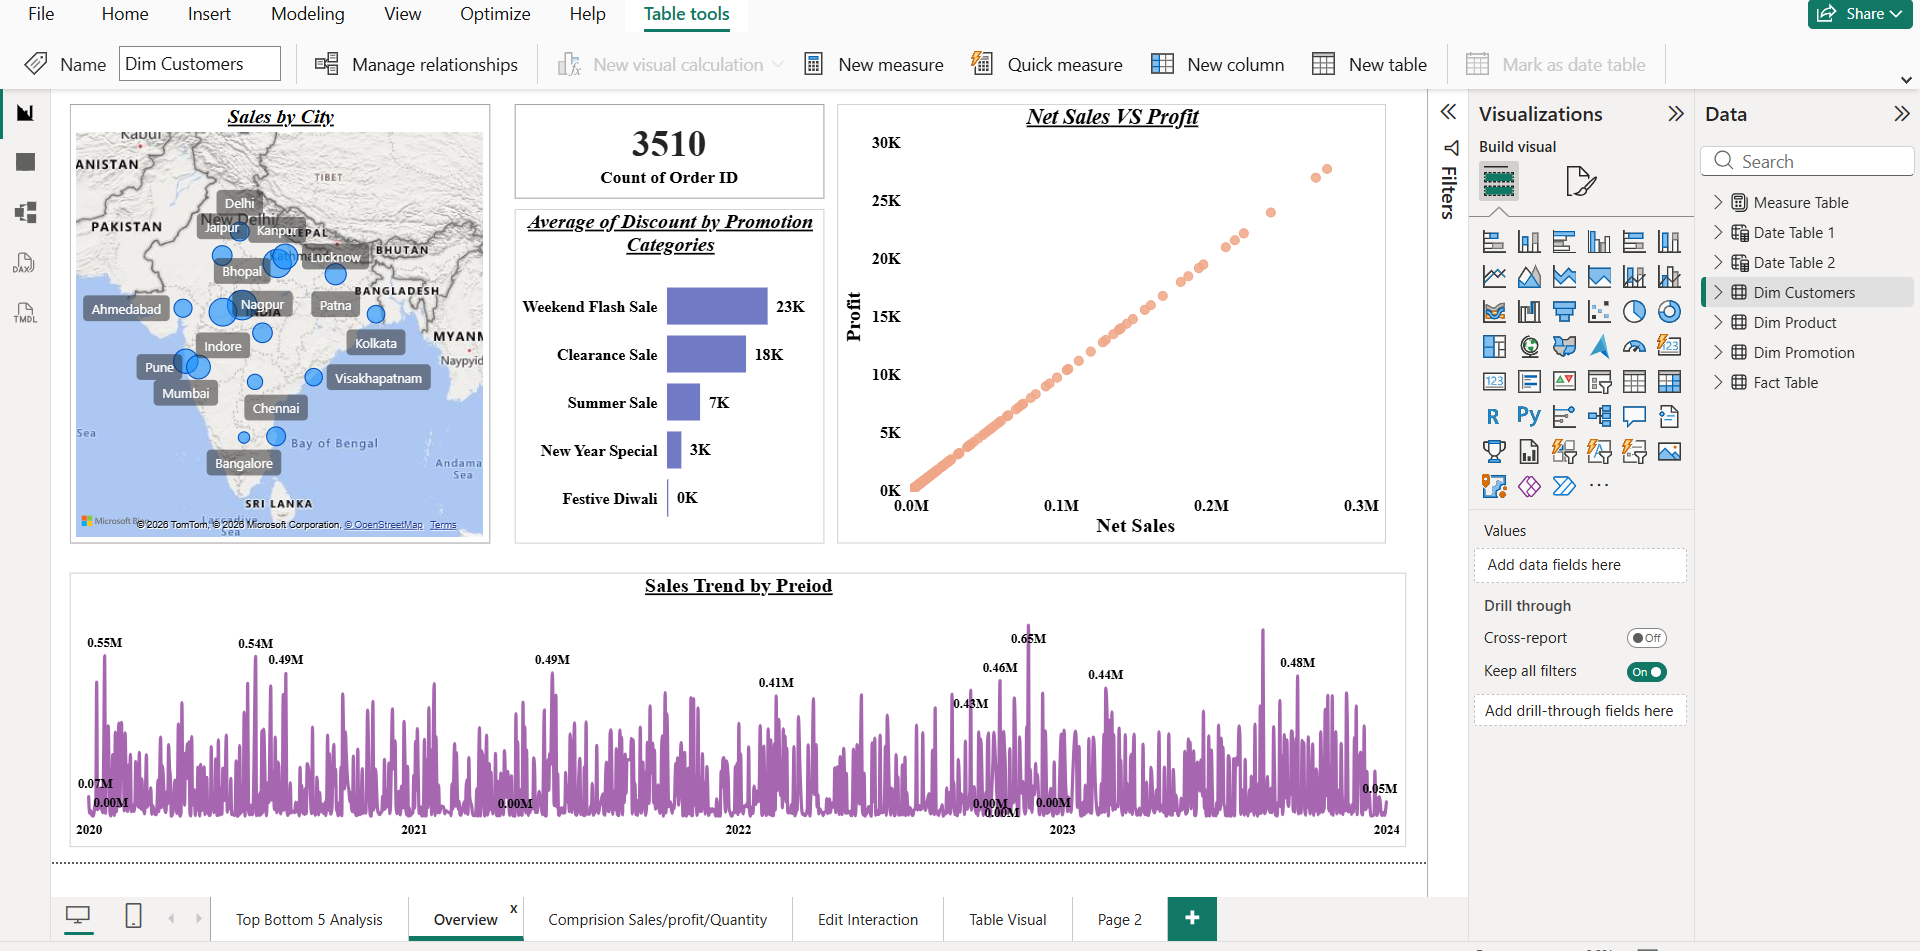

What the dashboard file says about the page in this screenshot:
{"tool":"powerbi","page":{"name":"Overview","canvas":[1280,720],"ordinal":1},"visuals":[{"type":"lineChart","title":"Sales Trend by Preiod","fields":{"Y":["Sum(Fact Table.Net Sales)"],"Category":["Fact Table.Date (dd/mm/yyyy).Variation.Date Hierarchy.Year"]},"box":[17.8,450.1,1243.2,255.2],"z":0},{"type":"scatterChart","title":"Net Sales VS Profit","fields":{"X":["Fact Table.Net Sales"],"Y":["Fact Table.Profit"]},"box":[731.4,13.7,510.5,408.9],"z":1000},{"type":"barChart","title":"Average of Discount by Promotion Categories","fields":{"Y":["Avg(Fact Table.Discount)"],"Category":["Dim Promotion.Promotion Name"]},"box":[430.9,111.1,288.2,311.5],"z":2000},{"type":"map","title":"Sales by City","fields":{"Category":["Dim Customers.City"],"Size":["Sum(Fact Table.Net Sales)"]},"box":[17.8,13.7,391.1,408.9],"z":3000},{"type":"card","fields":{"Values":["Count(Fact Table.Order ID)"]},"box":[430.9,13.7,288.2,87.8],"z":4000}]}

Visuals, with their boxes on the page's 1280x720 design canvas (x1, y1, x2, y2). These are canvas units, not pixel positions in the 1920x951 screenshot, which may show the page scaled, cropped or inside an application window:
"Sales Trend by Preiod" lineChart: (18,450,1261,705)
"Net Sales VS Profit" scatterChart: (731,14,1242,423)
"Average of Discount by Promotion Categories" barChart: (431,111,719,423)
"Sales by City" map: (18,14,409,423)
card - Count(Fact Table.Order ID): (431,14,719,102)
